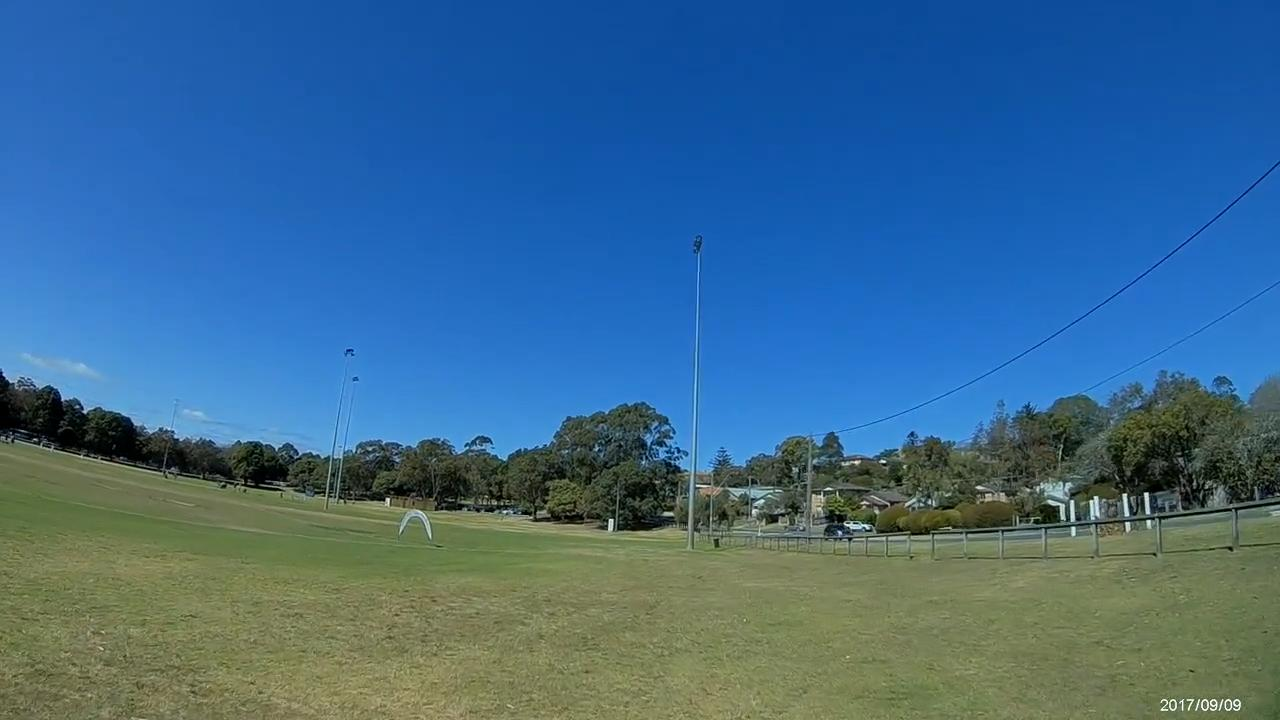gate: (397, 509, 431, 544)
